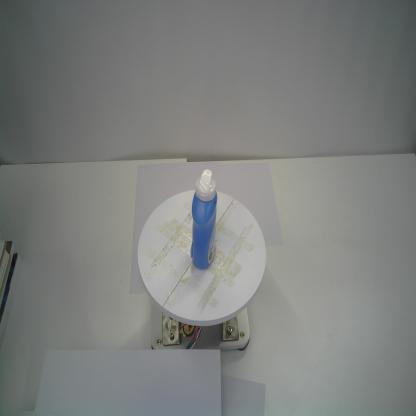Personal Hygiene: (189, 169, 218, 270)
